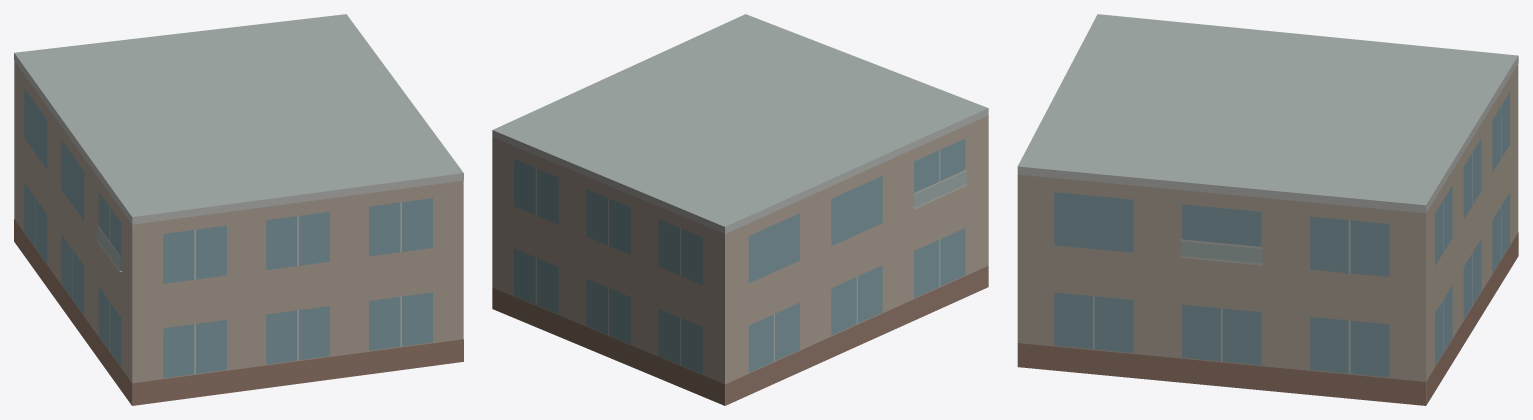
Rendered from survey-upis-32653189.glb.
The picture shows the model from 3 angles, left to right: view 1: azimuth 30°, elevation 25°; view 2: azimuth 150°, elevation 25°; view 3: azimuth 270°, elevation 25°; orthographic projection. The views are drawn at different scales.
Visible parts, largest first — view 1: survey-upis-32653189.tmp; view 2: survey-upis-32653189.tmp; view 3: survey-upis-32653189.tmp.
Part boxes in pixels (x1,y1,x2,y2): survey-upis-32653189.tmp: [14, 14, 463, 405]; survey-upis-32653189.tmp: [492, 14, 988, 405]; survey-upis-32653189.tmp: [1017, 14, 1518, 405].
Size of the model in its own units: 12.49 by 6.1 by 13.82.
